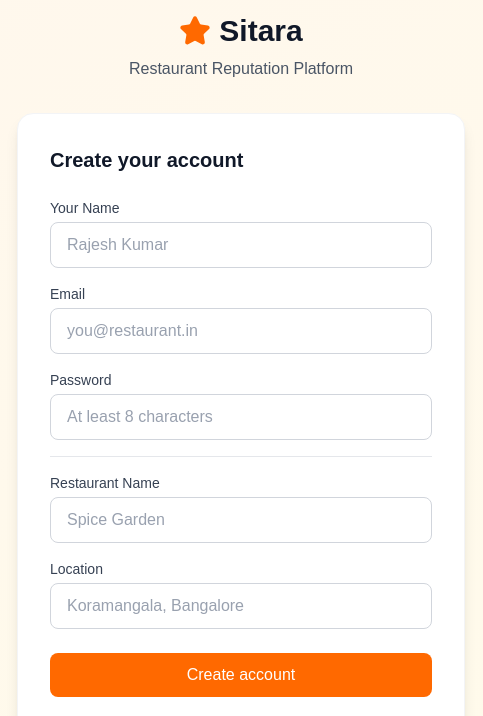
it: RegisterPage › shows error on duplicate email
Type "Test" into the field labelled "Your Name" at [241, 245], box left=50, top=222, right=432, bottom=268
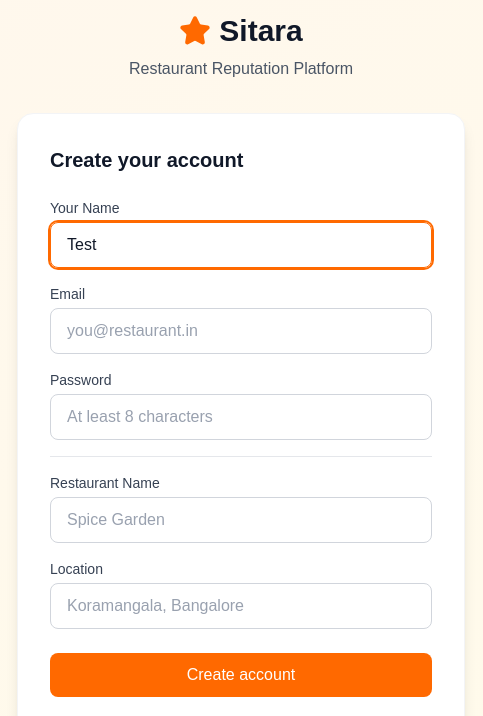
Type "existing@test.com" into the field labelled "Email" at [241, 331], box left=50, top=308, right=432, bottom=354
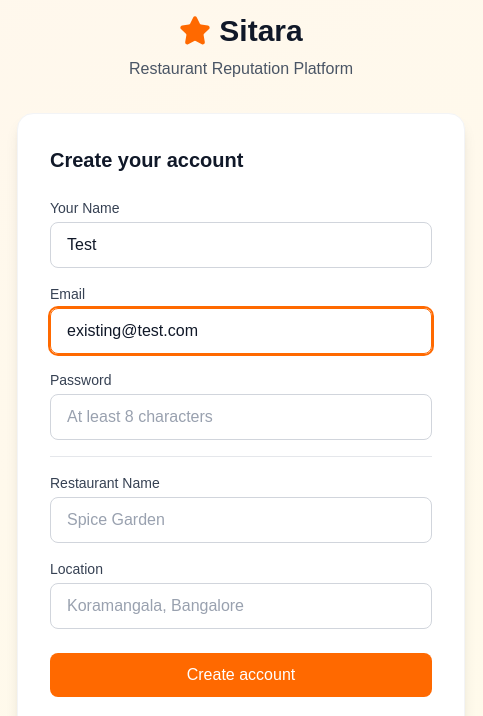
Type "password123" into the password field labelled "Password" at [241, 417], box left=50, top=394, right=432, bottom=440
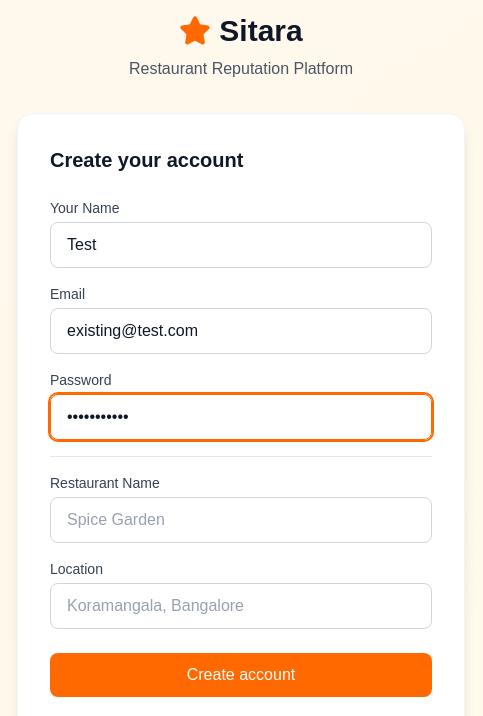
Type "My Restaurant" into the field labelled "Restaurant Name" at [241, 520], box left=50, top=497, right=432, bottom=543
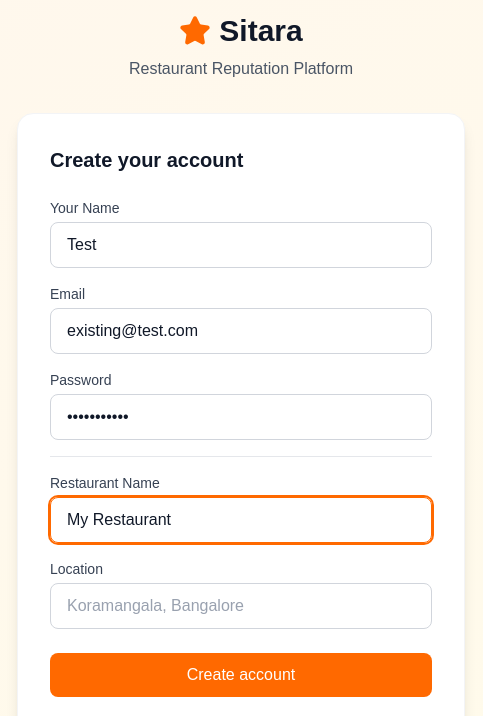
Type "Bangalore" into the field labelled "Location" at [241, 606], box left=50, top=583, right=432, bottom=629
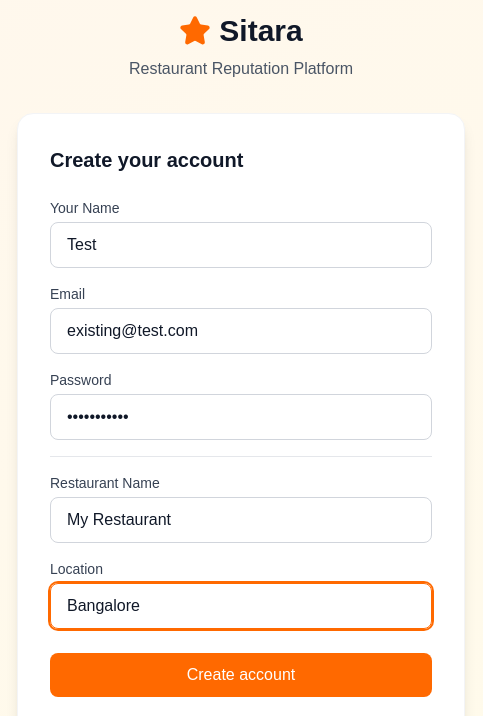
Click the button "Create account" at [241, 675], box left=50, top=653, right=432, bottom=697
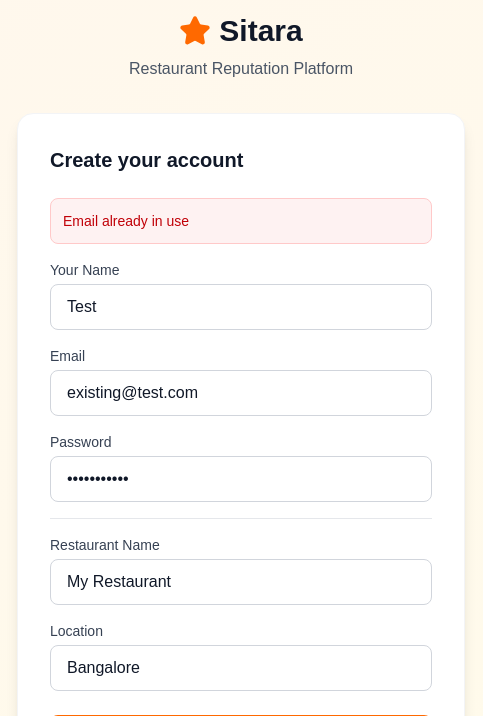
Expected: the text "Email already in use" is shown, left=50, top=198, right=432, bottom=244
